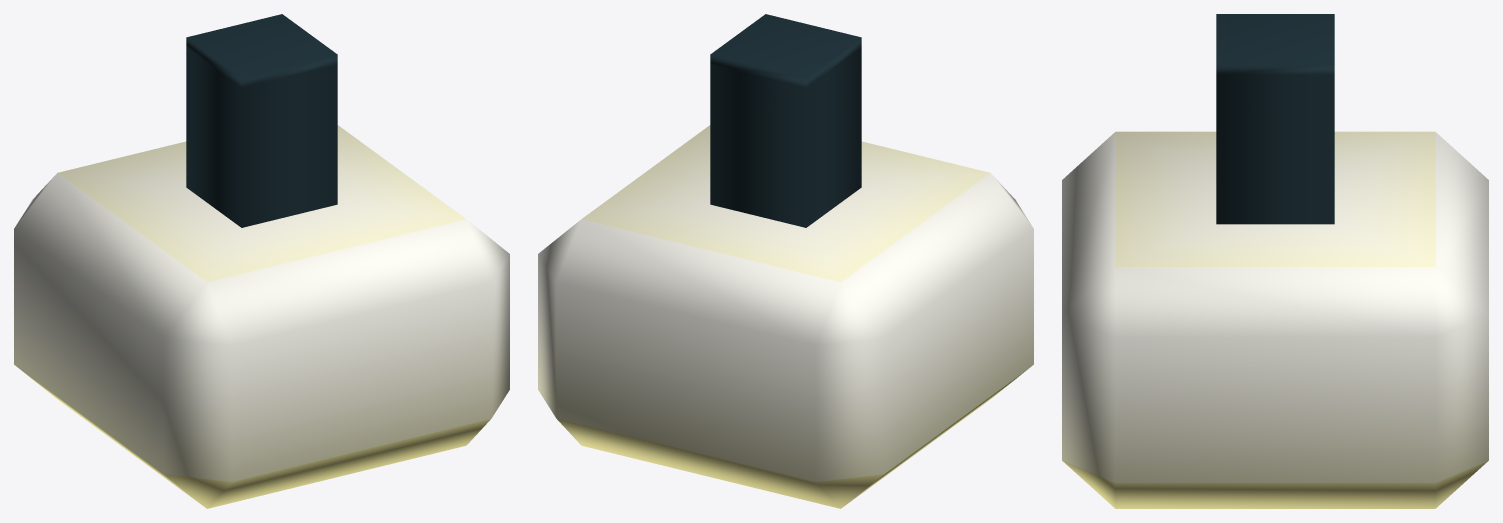
Rendered from candle_medium_3.fbx.
The picture shows the model from 3 angles, left to right: view 1: azimuth 30°, elevation 25°; view 2: azimuth 150°, elevation 25°; view 3: azimuth 270°, elevation 25°; orthographic projection. The views are drawn at different scales.
Parts seen in each view (by area): view 1: candle_medium_3; view 2: candle_medium_3; view 3: candle_medium_3.
Part boxes in pixels (x1=…): candle_medium_3: x1=14, y1=14, x2=509, y2=508; candle_medium_3: x1=538, y1=14, x2=1033, y2=508; candle_medium_3: x1=1062, y1=14, x2=1488, y2=508.
Size of the model in its own units: 26.94 by 28.01 by 26.94.
Materials: 1 (1 with a texture image).
